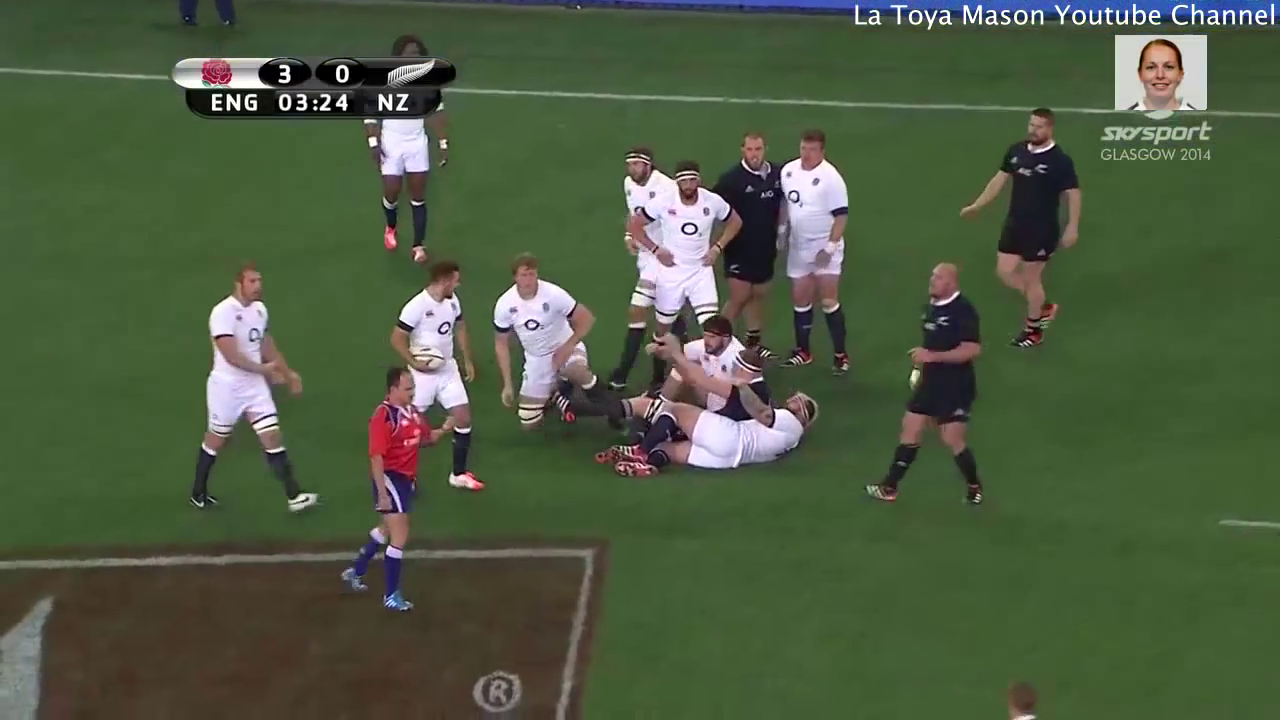player: (189, 259, 325, 524), (958, 107, 1093, 354), (862, 255, 985, 515), (325, 368, 433, 616), (564, 384, 833, 476), (769, 127, 866, 379), (392, 250, 491, 495), (487, 252, 603, 424), (704, 130, 782, 364), (627, 159, 730, 336), (354, 119, 451, 260), (612, 146, 657, 335), (670, 310, 749, 394)
